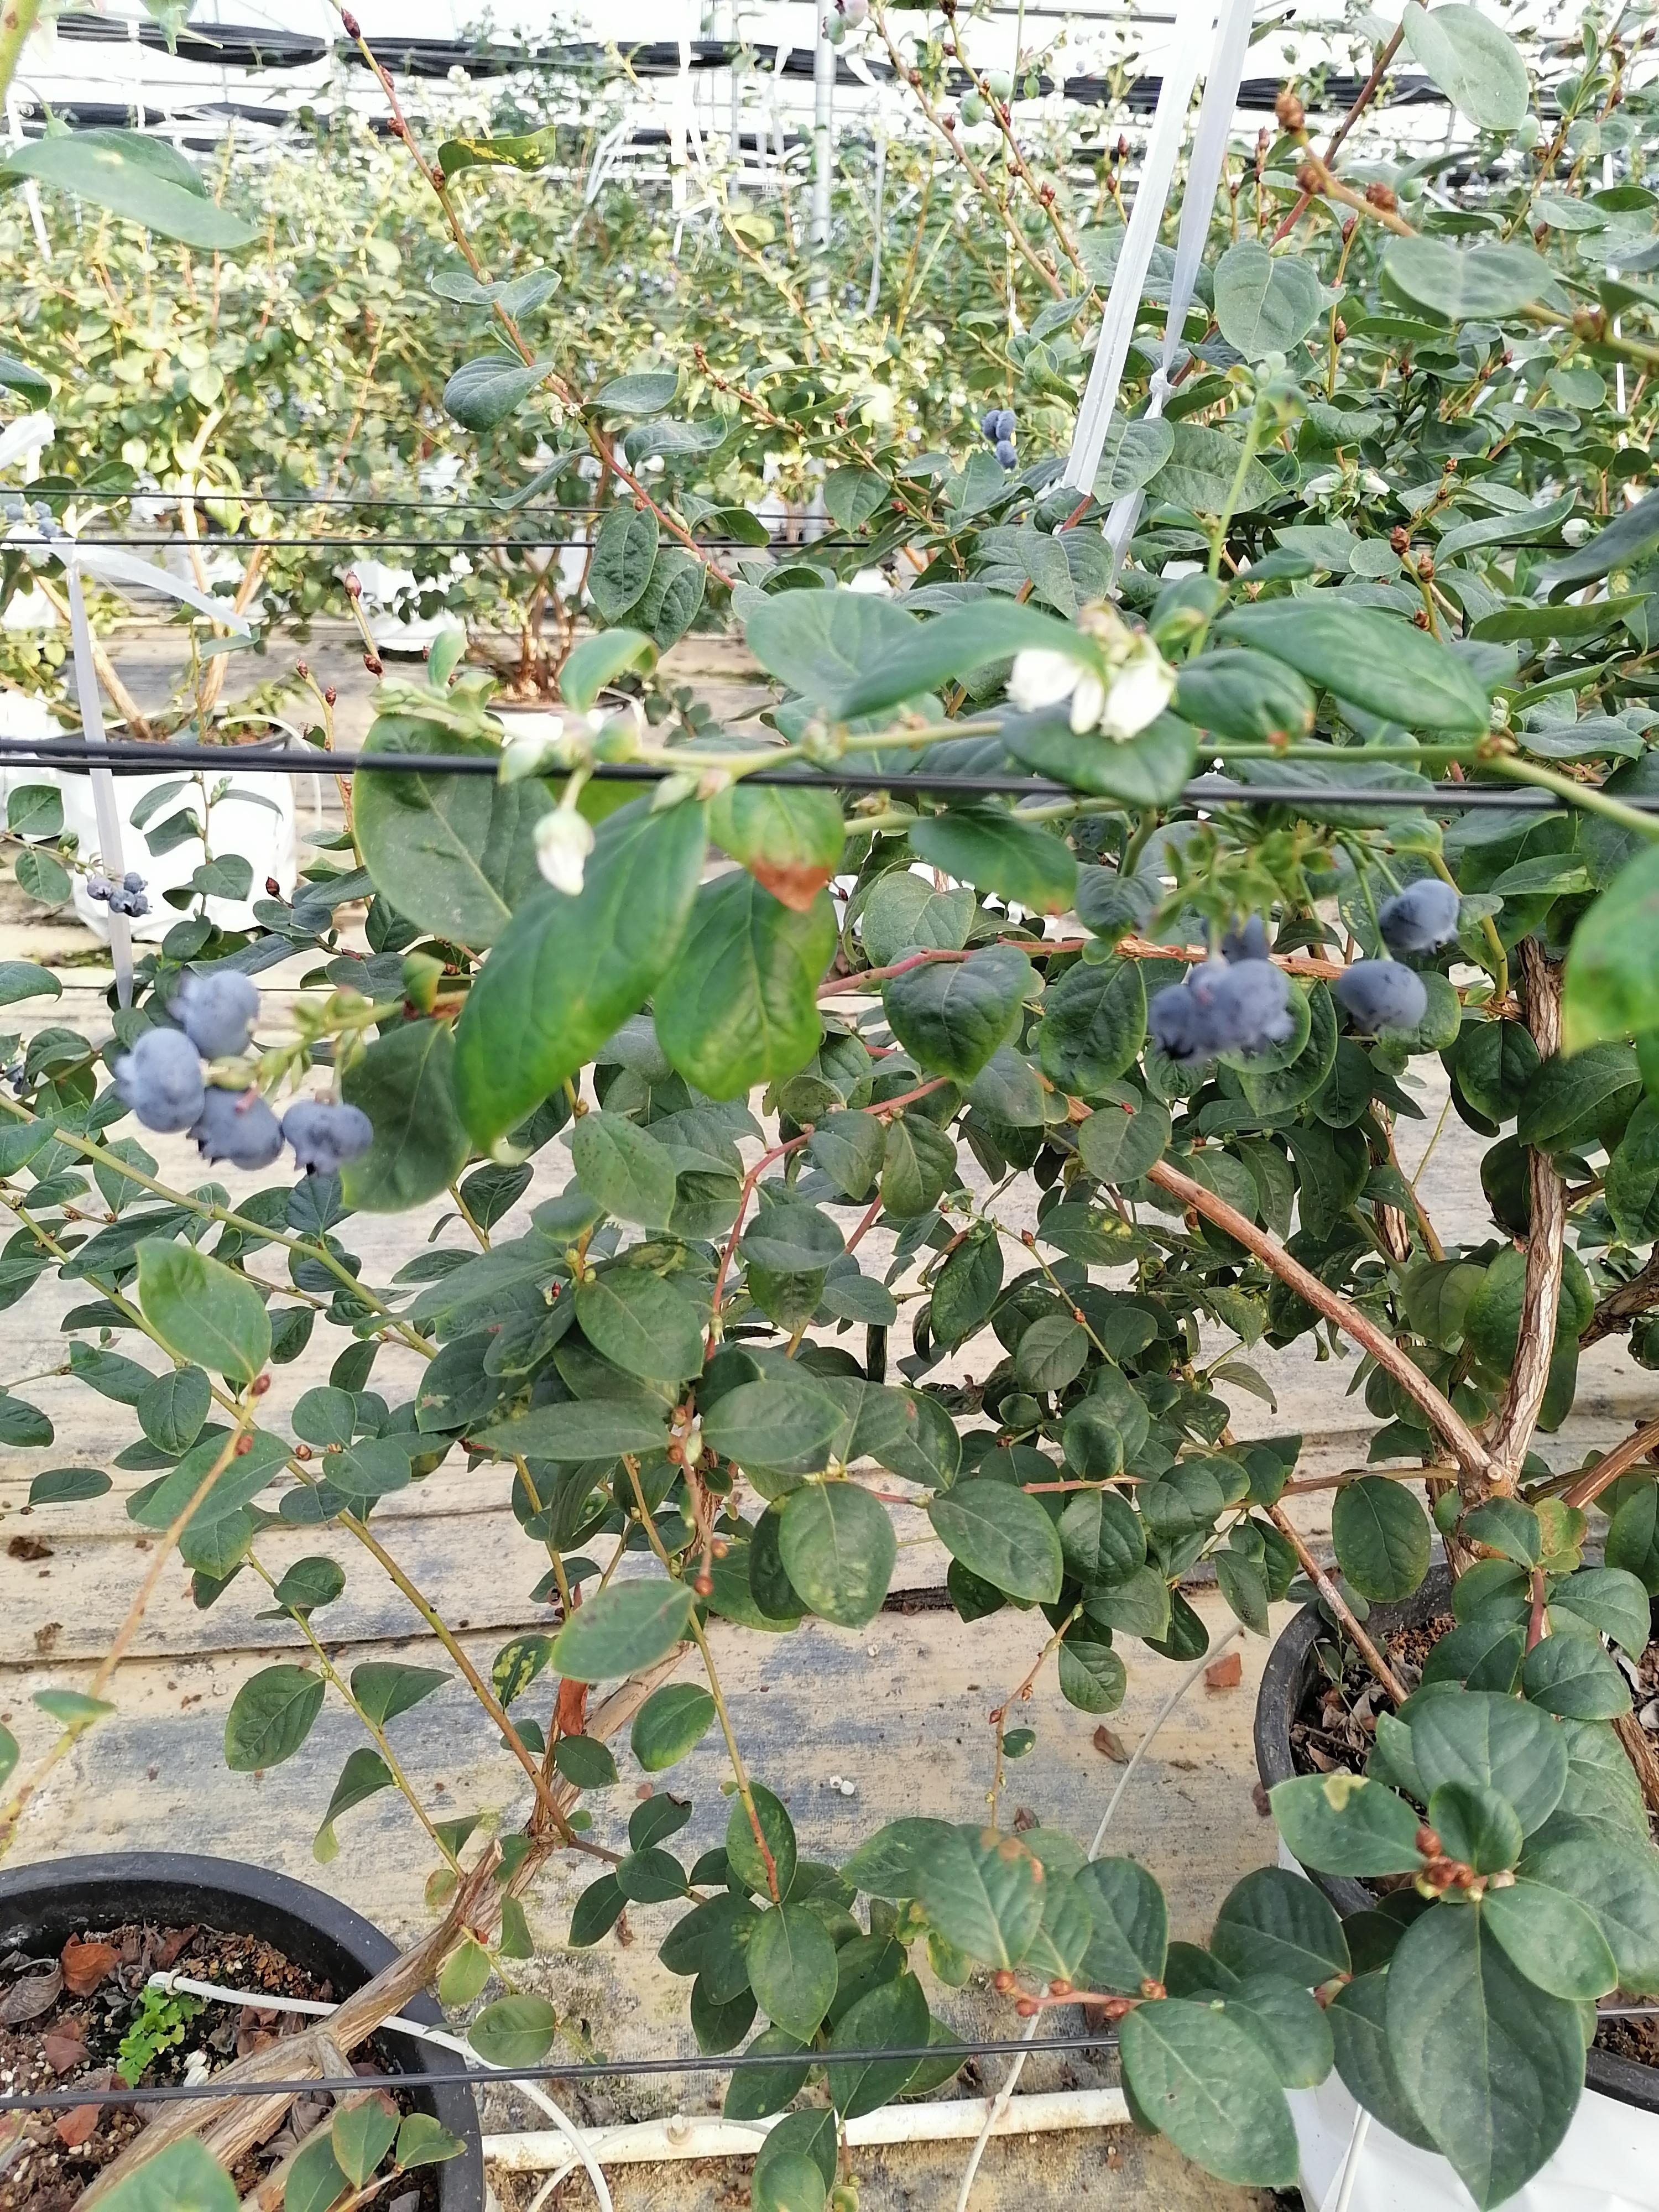ripe-blueberries: (112, 1026, 206, 1134), (186, 1082, 286, 1170), (167, 970, 260, 1061), (1206, 958, 1295, 1052), (1338, 960, 1427, 1036), (284, 1101, 375, 1176), (1148, 984, 1223, 1066), (1378, 878, 1462, 951), (983, 409, 1006, 442), (124, 894, 152, 918), (995, 441, 1018, 470), (87, 876, 113, 900), (110, 890, 136, 913), (995, 411, 1016, 439), (124, 873, 146, 894), (38, 517, 61, 538)
